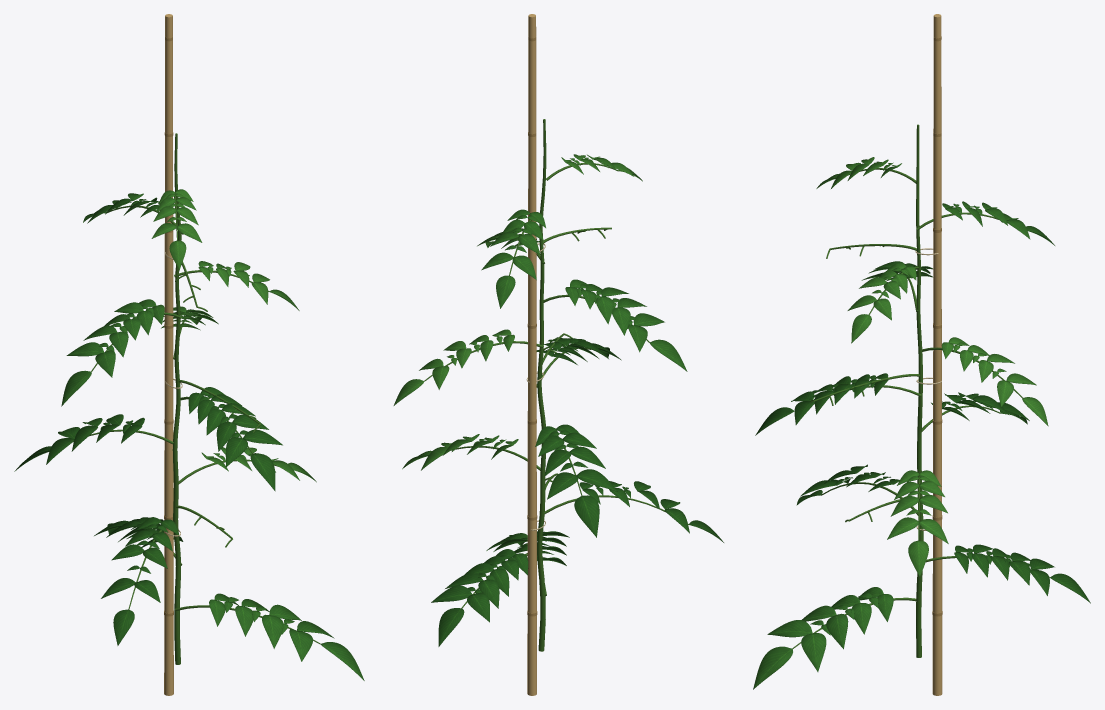
The model's file is tomato_plant_b.glb.
The picture shows the model from 3 angles, left to right: view 1: azimuth 30°, elevation 25°; view 2: azimuth 150°, elevation 25°; view 3: azimuth 270°, elevation 25°; orthographic projection.
Visible parts, largest first — view 1: stake, stem; view 2: stake, stem, leaflet.046, leaflet.019; view 3: stake, stem, leaflet.008, leaflet.006, leaflet.007.
Boxes of the visible parts, x1=… form: stake: x1=164, y1=14, x2=173, y2=695; stem: x1=172, y1=133, x2=181, y2=664; stake: x1=527, y1=14, x2=536, y2=695; stem: x1=537, y1=119, x2=546, y2=651; leaflet.046: x1=574, y1=495, x2=599, y2=537; leaflet.019: x1=438, y1=608, x2=464, y2=646; stake: x1=932, y1=14, x2=942, y2=695; stem: x1=916, y1=124, x2=923, y2=657; leaflet.008: x1=753, y1=646, x2=792, y2=689; leaflet.006: x1=801, y1=633, x2=826, y2=671; leaflet.007: x1=767, y1=620, x2=812, y2=637.
Bounding box in the file's own units: 0.7685 × 1.84 × 0.8313.
7 materials, 3 textured.
